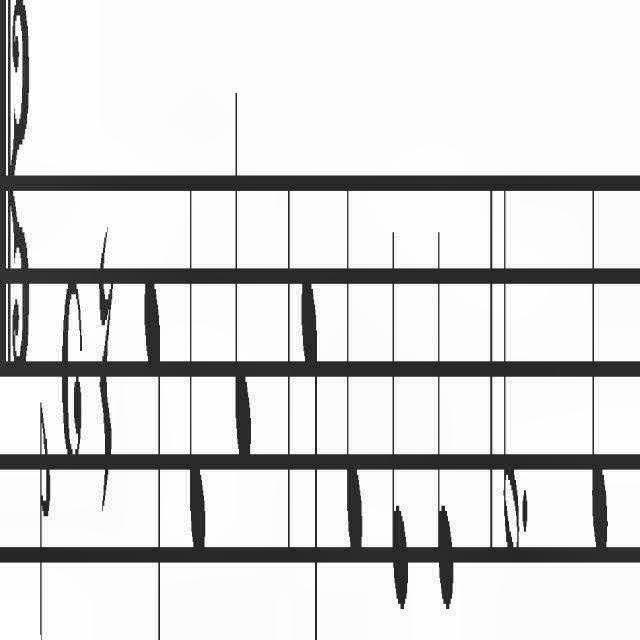Bemol: (38, 396, 51, 640)
Half-note: (502, 175, 520, 565)
Quarter-note: (234, 80, 253, 472), (345, 170, 363, 570), (142, 263, 161, 640), (188, 178, 206, 574), (591, 172, 609, 568), (300, 274, 318, 640), (392, 222, 408, 624), (438, 222, 454, 618)
Quarter-rest: (98, 209, 114, 519)
